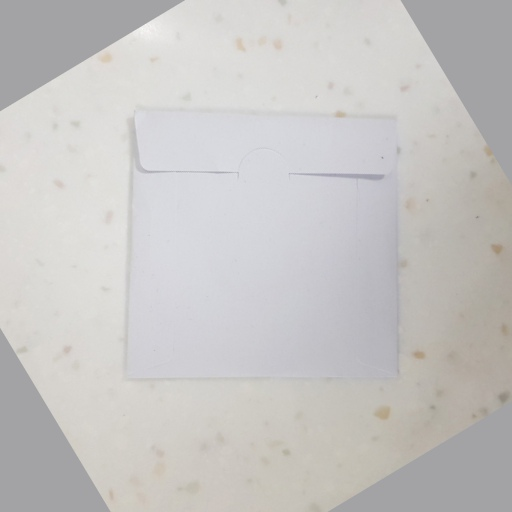Paper_2: (115, 91, 411, 400)
